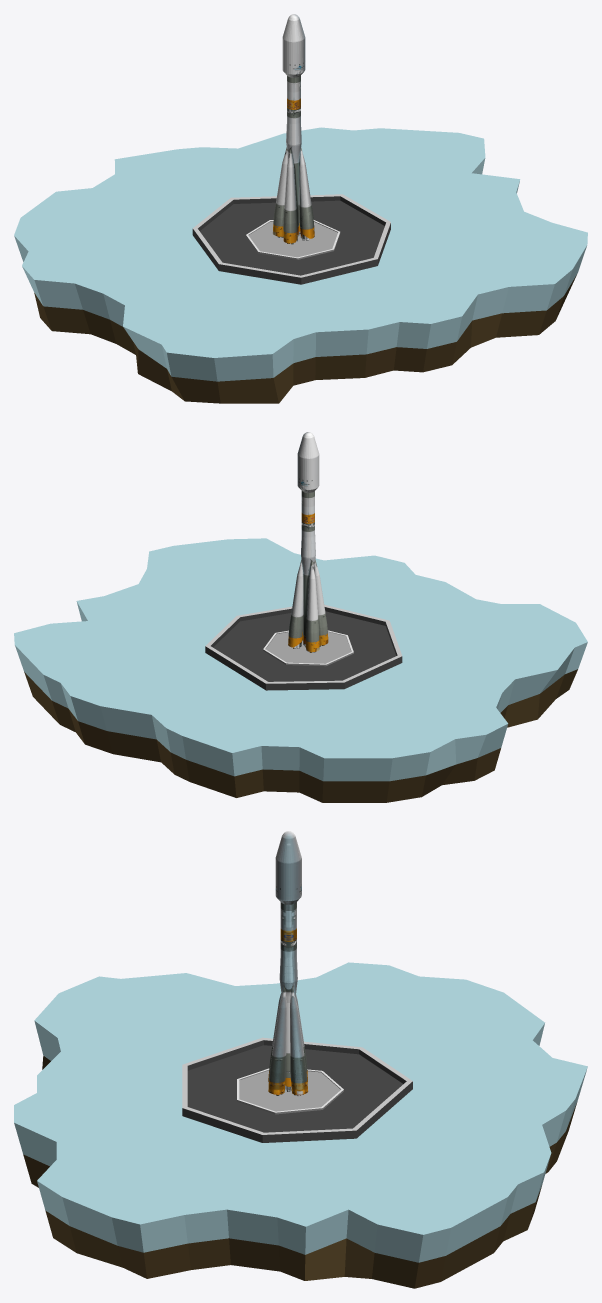
File: soyuz2-v2.gltf
3 views of the same model, one above another, from view 1: azimuth 30°, elevation 25°; view 2: azimuth 150°, elevation 25°; view 3: azimuth 270°, elevation 25° (orthographic). The views are drawn at different scales.
Visible parts, largest first — view 1: Plane, Circle.001, Cylinder.001, Cylinder.002; view 2: Plane, Circle.001, Cylinder.001, Cylinder.002; view 3: Plane, Circle.001, Cylinder.001, Cylinder.002.
Boxes of the visible parts, x1,y1,x2,y2 form: Plane: (14, 127, 587, 403); Circle.001: (192, 194, 390, 284); Cylinder.001: (273, 14, 314, 244); Cylinder.002: (246, 220, 340, 259); Plane: (14, 538, 587, 802); Circle.001: (205, 604, 402, 690); Cylinder.001: (288, 432, 328, 652); Cylinder.002: (263, 630, 353, 666); Plane: (14, 962, 587, 1288); Circle.001: (182, 1037, 412, 1142); Cylinder.001: (268, 831, 308, 1096); Cylinder.002: (237, 1068, 343, 1114).
Size of the model in its own units: 8.06 by 4.48 by 7.18.
Materials: 9 (2 with a texture image).
